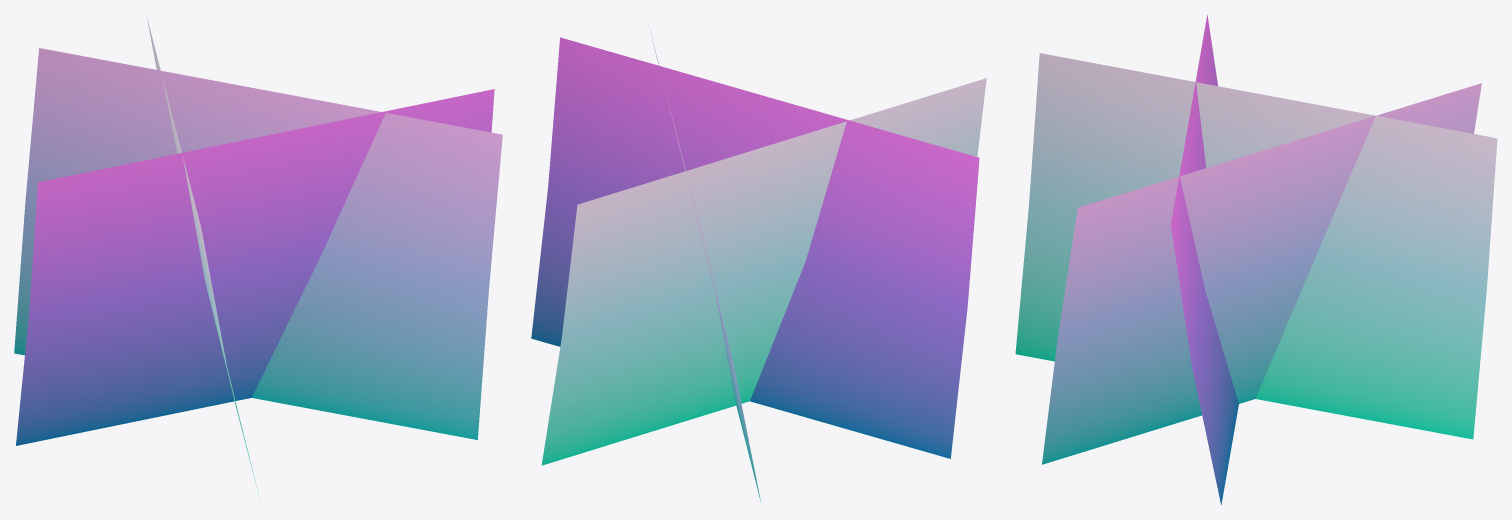
File: grass_tuft.glb
The picture shows the model from 3 angles, left to right: view 1: azimuth 30°, elevation 25°; view 2: azimuth 150°, elevation 25°; view 3: azimuth 270°, elevation 25°; orthographic projection.
Visible parts, largest first — view 1: grass_tuft; view 2: grass_tuft; view 3: grass_tuft.
Part boxes in pixels (x1,y1,x2,y2): grass_tuft: (14, 16, 502, 494); grass_tuft: (531, 23, 986, 501); grass_tuft: (1015, 15, 1497, 504).
Size of the model in its own units: 0.8038 by 0.4932 by 0.7707.
